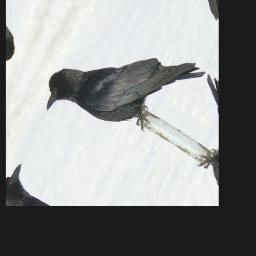Crow: (36, 0, 208, 180)
